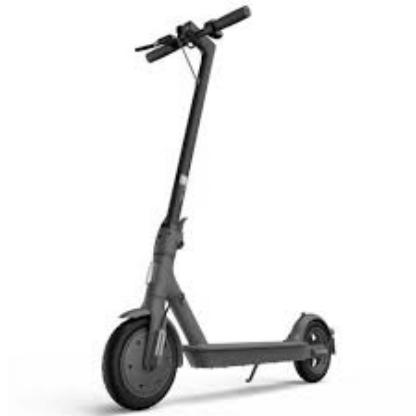bike: (101, 215, 336, 411)
